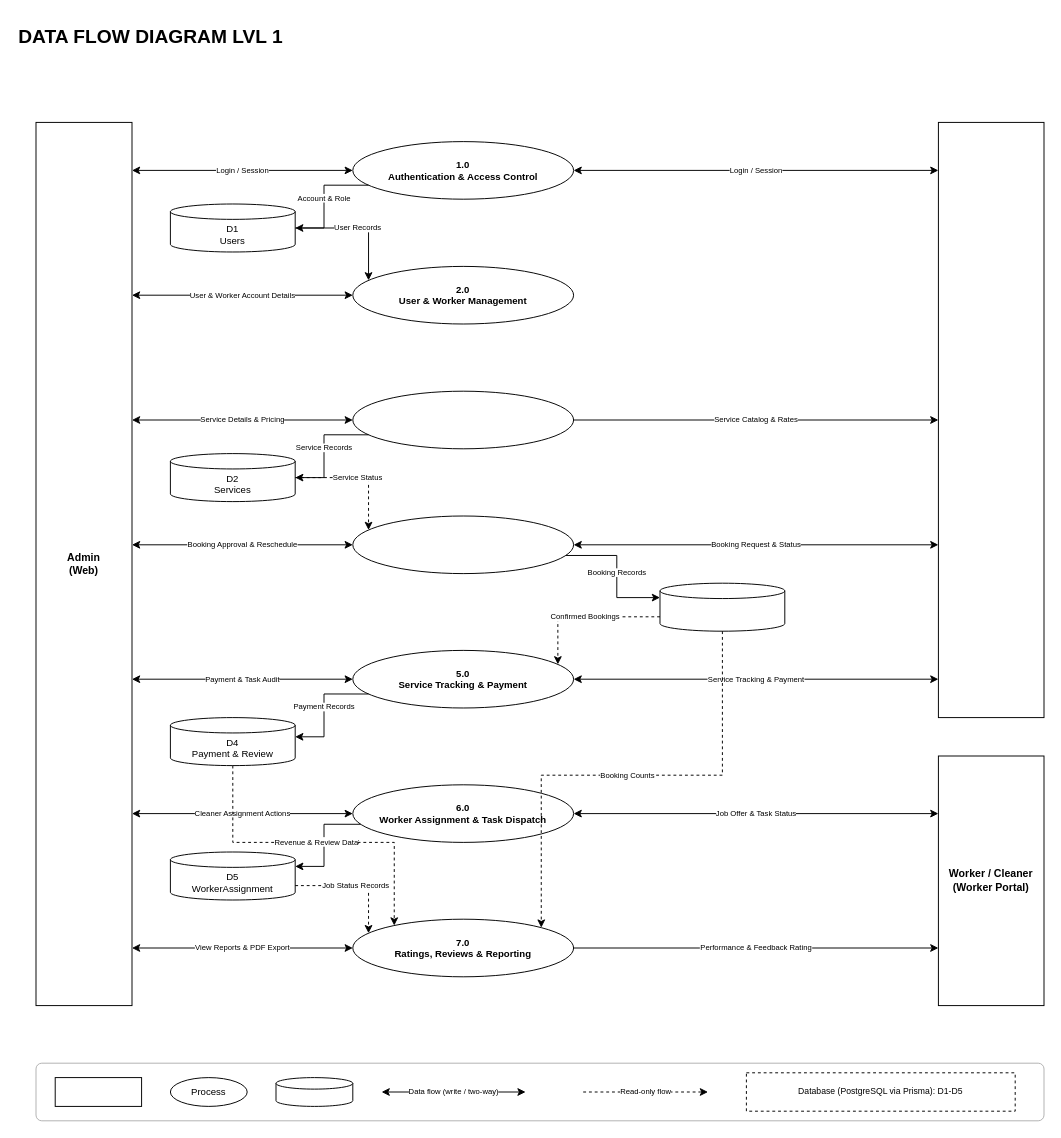
The diagram is 1061 pixels wide and 1138 high, and some of its shapes have lost their labels. Here are the shapes that lost their labels. From the top down, the centre of each, then its label:
(x=463, y=419): 3.0 Service Package Management
(x=990, y=419): Client (Web)
(x=463, y=544): 4.0 Booking & Schedule Management
(x=722, y=606): D3 Booking
(x=98, y=1091): External Entity
(x=314, y=1091): Data Store
